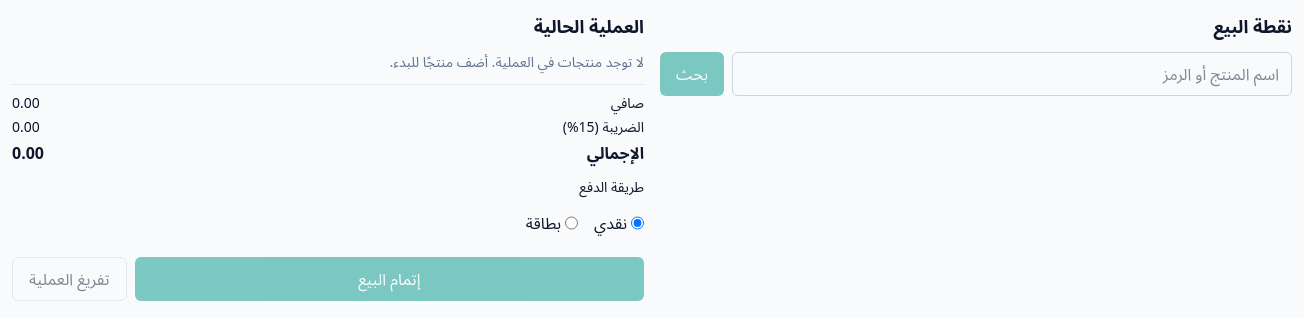
Test: PosPage › shows result buttons by product name after search
Type "coffee" into the search field named "بحث عن منتج" at (1012, 74), box [732,52,1292,96]
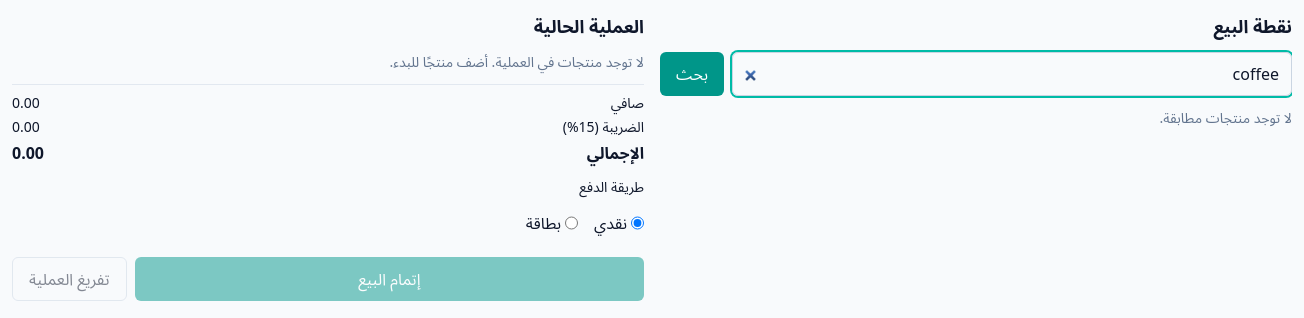
Click the button "بحث" at (692, 74), box [660,52,724,96]
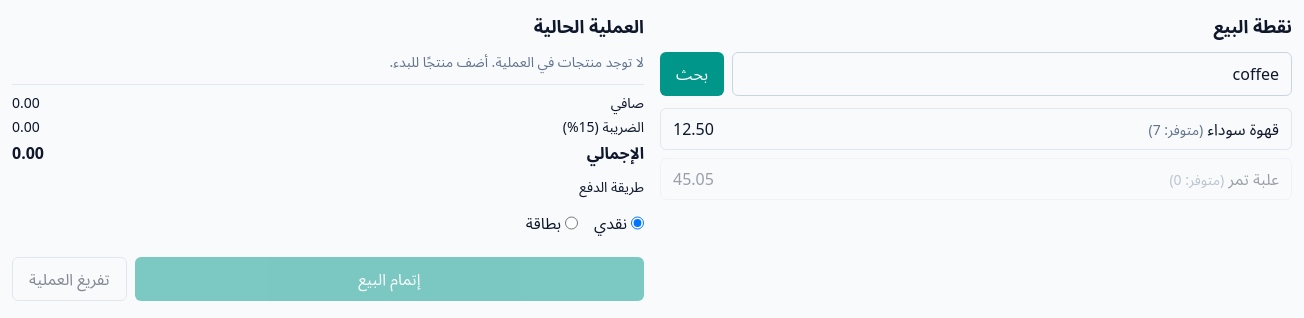
expect the text "قهوة سوداء" is shown: met, box [1207,118,1279,140]
